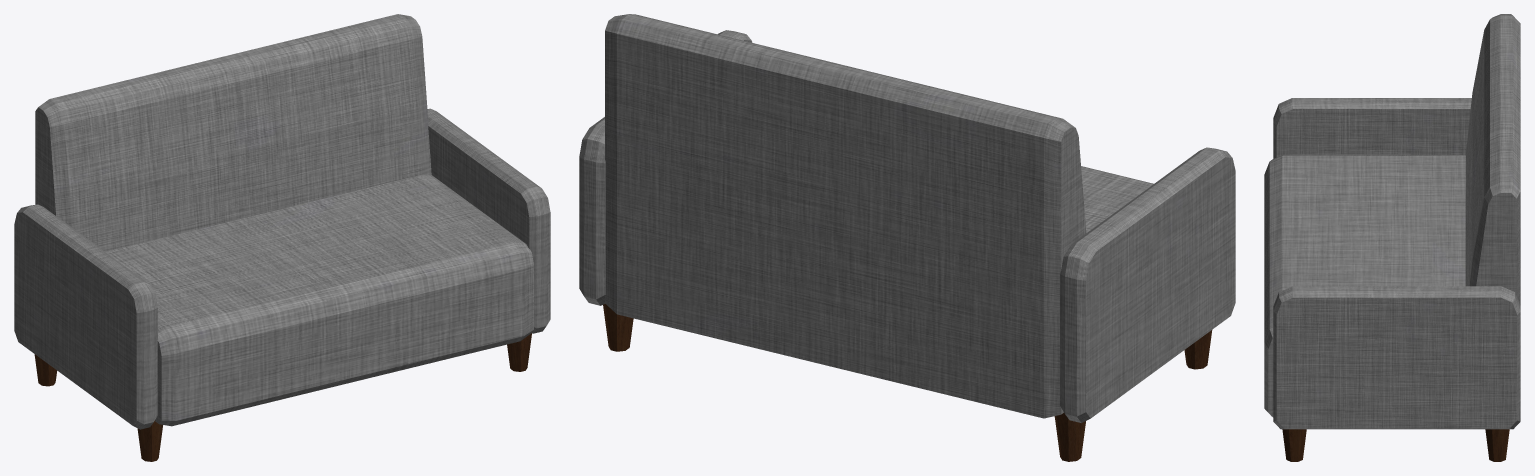
The model's file is sofa.glb.
The picture shows the model from 3 angles, left to right: view 1: azimuth 30°, elevation 25°; view 2: azimuth 150°, elevation 25°; view 3: azimuth 270°, elevation 25°; orthographic projection. The views are drawn at different scales.
Visible parts, largest first — view 1: sofa; view 2: sofa; view 3: sofa.
Boxes of the visible parts, <box> form: sofa: <box>14,14,550,461</box>; sofa: <box>579,14,1235,461</box>; sofa: <box>1264,14,1520,461</box>.
Size of the model in its own units: 1.1 by 0.7 by 0.6.
2 materials, 2 textured.
